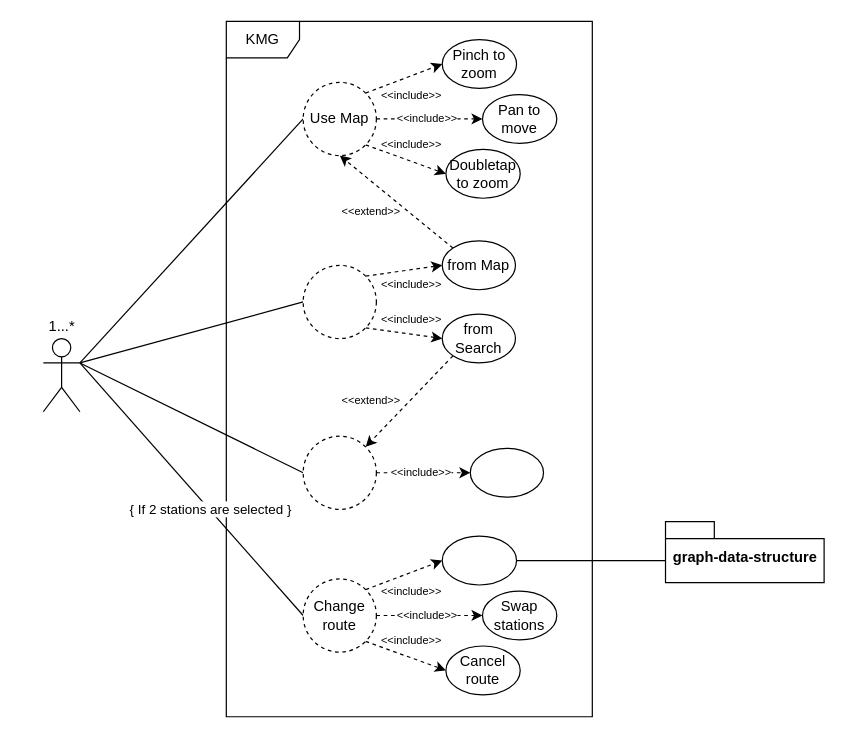
Image size: 845x738. Some labels were removed from this diagram. Each missing label, with the centre of its shape:
"Build route" goes at point (479, 560).
"Enter search to filter" goes at point (506, 472).
"Person User" goes at point (61, 374).
"Search stations" goes at point (339, 472).
"Select stations" goes at point (339, 301).
